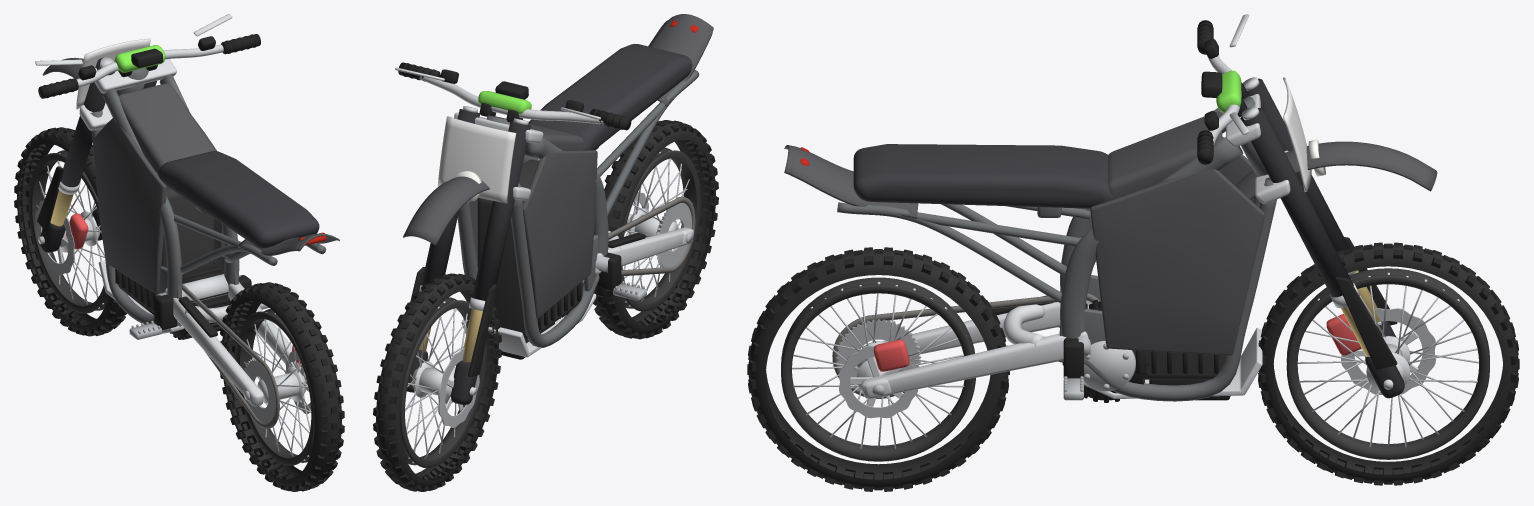
File: bike-volt.glb
3 renders of one model, left to right at view 1: azimuth 30°, elevation 25°; view 2: azimuth 150°, elevation 25°; view 3: azimuth 270°, elevation 25°, orthographic. The views are drawn at different scales.
Parts seen in each view (by area): view 1: body, wheelR, wheelF, fork, swingarm, slider; view 2: body, fork, wheelF, wheelR, swingarm, slider; view 3: body, wheelR, wheelF, fork, swingarm, slider.
Boxes of the visible parts, left/top/right/bottom form: body: left=90, top=67, right=339, bottom=339; wheelR: left=220, top=282, right=344, bottom=491; wheelF: left=14, top=127, right=126, bottom=336; fork: left=35, top=14, right=260, bottom=194; swingarm: left=156, top=274, right=307, bottom=428; slider: left=37, top=166, right=102, bottom=252; body: left=457, top=14, right=713, bottom=359; fork: left=395, top=62, right=631, bottom=310; wheelF: left=373, top=273, right=501, bottom=491; wheelR: left=593, top=120, right=718, bottom=339; swingarm: left=595, top=196, right=695, bottom=276; slider: left=406, top=267, right=496, bottom=404; body: left=784, top=96, right=1276, bottom=402; wheelR: left=747, top=247, right=1009, bottom=491; wheelF: left=1258, top=242, right=1519, bottom=485; fork: left=1197, top=14, right=1437, bottom=308; swingarm: left=832, top=293, right=1099, bottom=398; slider: left=1326, top=237, right=1404, bottom=398.
Size of the model in its own units: 0.76 by 1.13 by 1.9.
